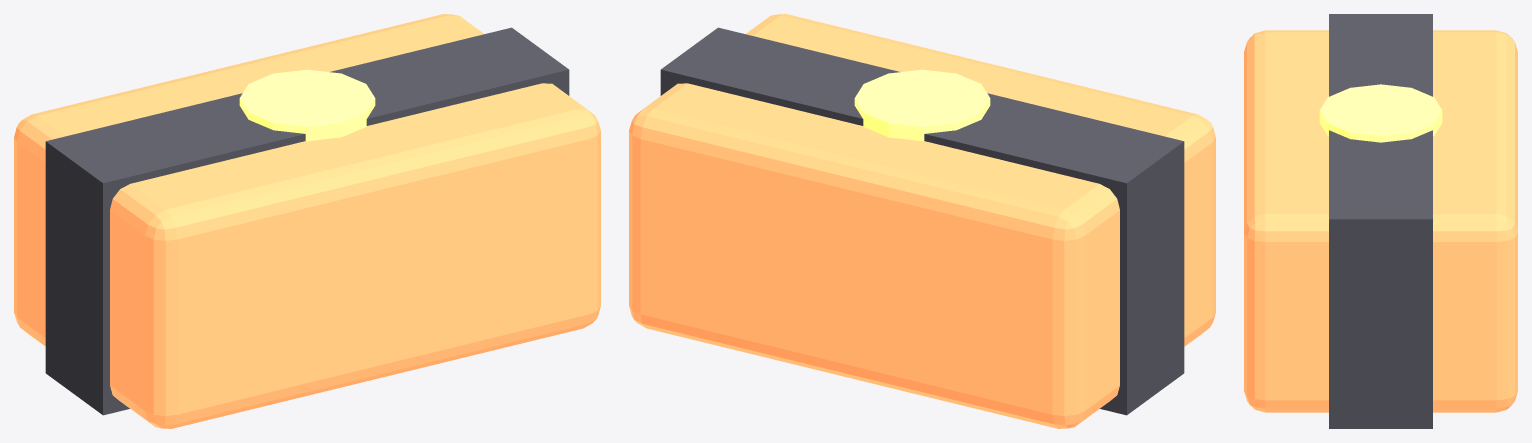
The model's file is brick_tnt.glb.
3 renders of one model, left to right at view 1: azimuth 30°, elevation 25°; view 2: azimuth 150°, elevation 25°; view 3: azimuth 270°, elevation 25°, orthographic. The views are drawn at different scales.
Parts seen in each view (by area): view 1: Cube, Cube.001, Cylinder; view 2: Cube, Cube.001, Cylinder; view 3: Cube, Cube.001, Cylinder.
Part boxes in pixels (left/top/right/bottom): Cube: left=14, top=14, right=600, bottom=428; Cube.001: left=45, top=27, right=569, bottom=415; Cylinder: left=239, top=69, right=375, bottom=141; Cube: left=629, top=14, right=1215, bottom=428; Cube.001: left=660, top=27, right=1184, bottom=415; Cylinder: left=854, top=69, right=990, bottom=141; Cube: left=1244, top=30, right=1517, bottom=412; Cube.001: left=1329, top=14, right=1432, bottom=428; Cylinder: left=1319, top=84, right=1442, bottom=142.
Bounding box in the file's own units: 1.03 × 0.52 × 0.58.
